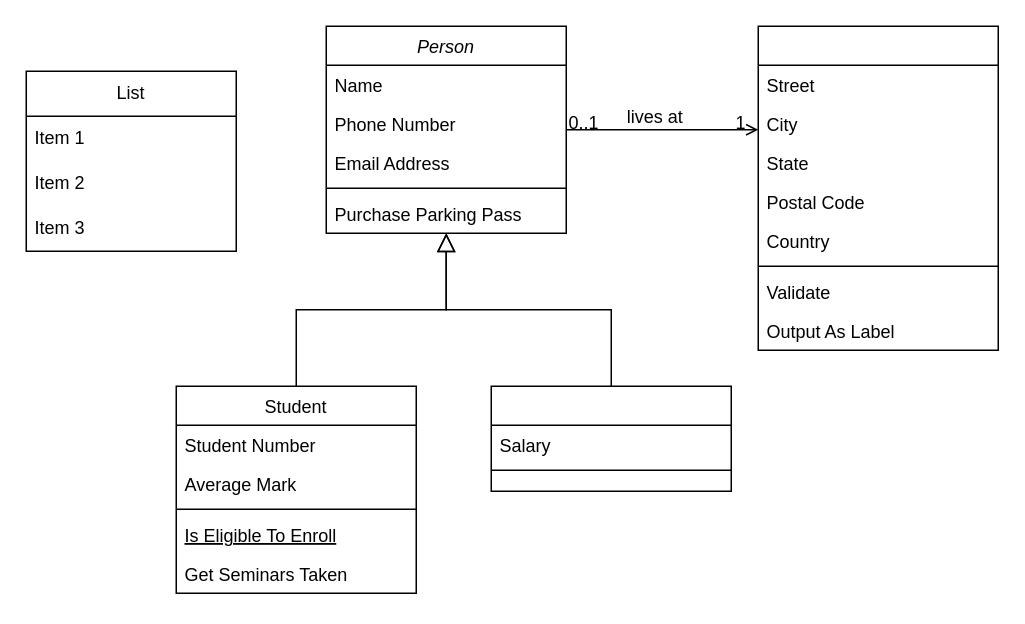
The diagram is 1025 pixels wide and 624 high, and some of its shapes have lost their labels. The shapes that lost their labels are listed below. From the top down, each one's box as (x1, y1, x2, y2) in pixels, then its label:
(757, 25, 998, 350): Address
(490, 385, 731, 491): Professor
